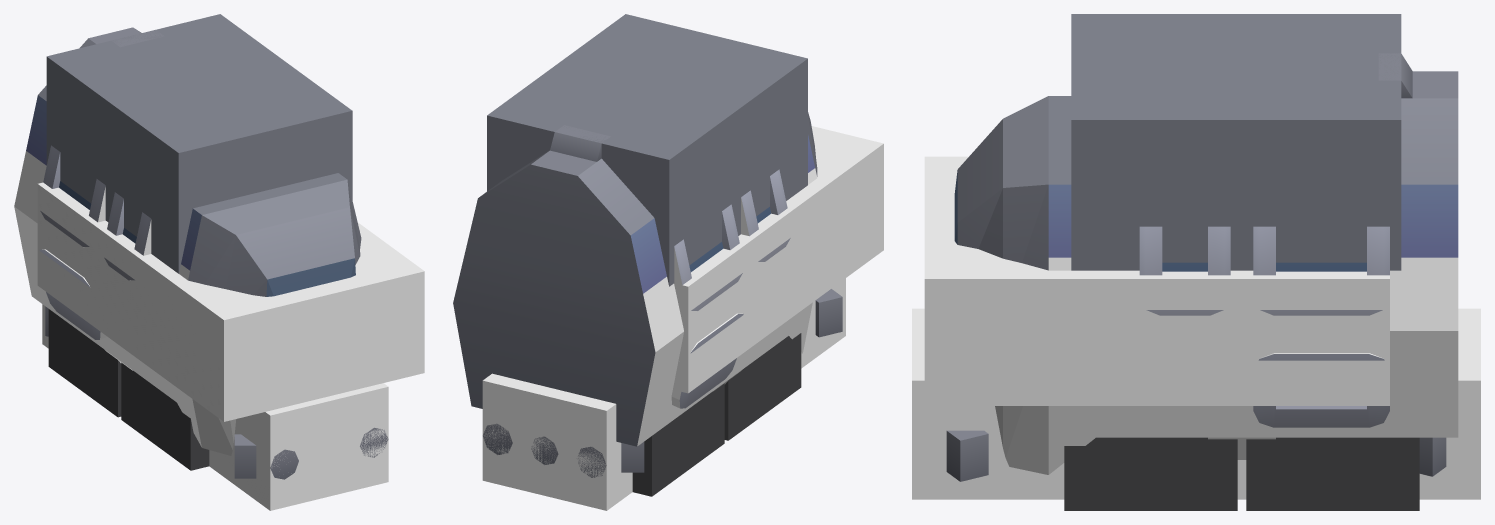
Rendered from train.double.glb.
The picture shows the model from 3 angles, left to right: view 1: azimuth 30°, elevation 25°; view 2: azimuth 150°, elevation 25°; view 3: azimuth 270°, elevation 25°; orthographic projection. The views are drawn at different scales.
Parts seen in each view (by area): view 1: far, near; view 2: far, near; view 3: far, near.
Boxes of the visible parts, x1,y1,x2,y2 form: far: (37, 14, 424, 510); near: (14, 27, 388, 479); far: (482, 14, 883, 510); near: (453, 112, 842, 496); far: (912, 14, 1480, 499); near: (946, 53, 1458, 510).
Size of the model in its own units: 2.9 by 4.34 by 5.64.
